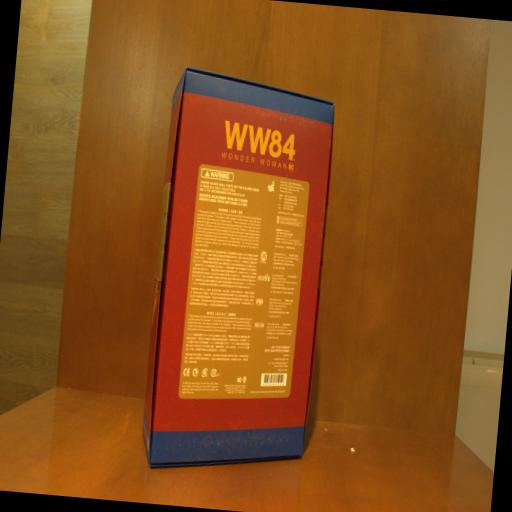WonderWoman: (136, 64, 344, 482)
